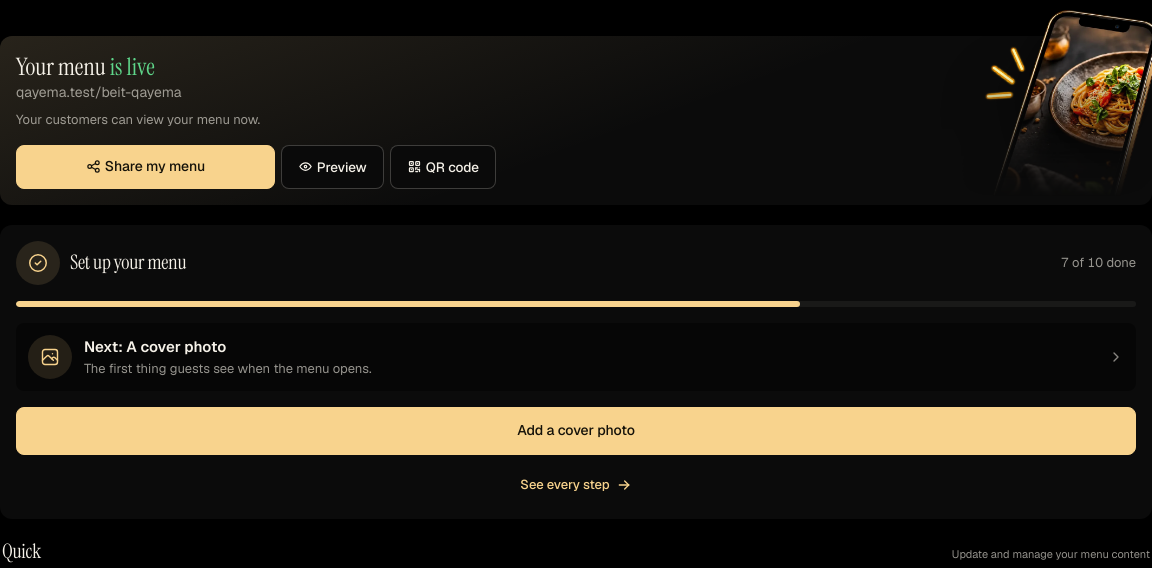
Test case: OverviewPage › opens another step on a tap, and folds an open one away on a second tap
The width and height of the screenshot is (1152, 568).
Click the button "See every step" at (576, 485), box [506,467,646,503]
(page scrolled)
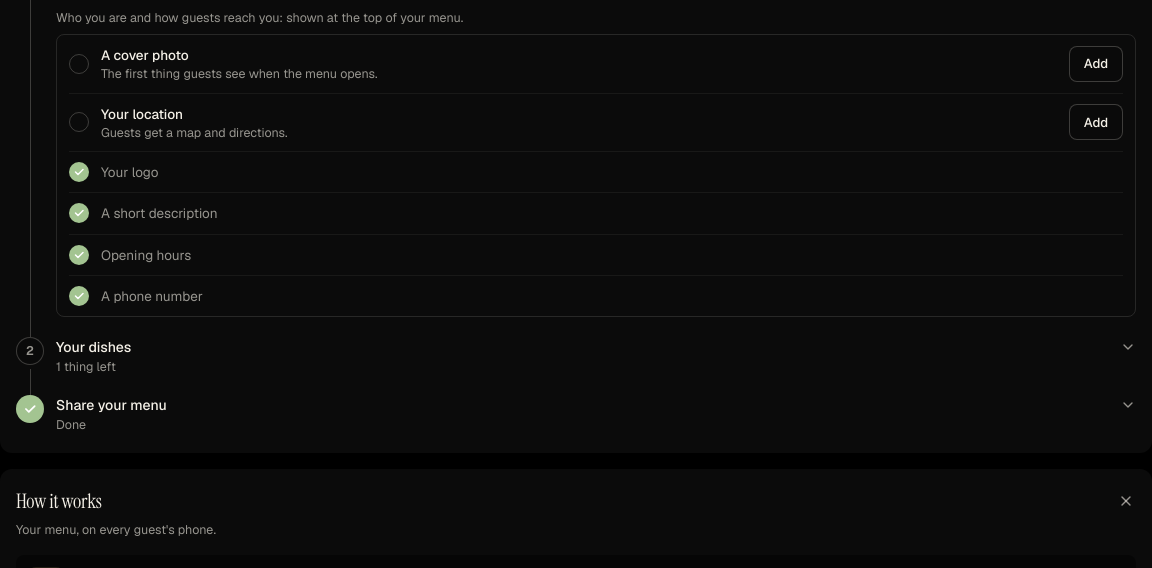
Click the button "Your dishes 1 thing left" at (94, 347), box [56,337,1136,375]
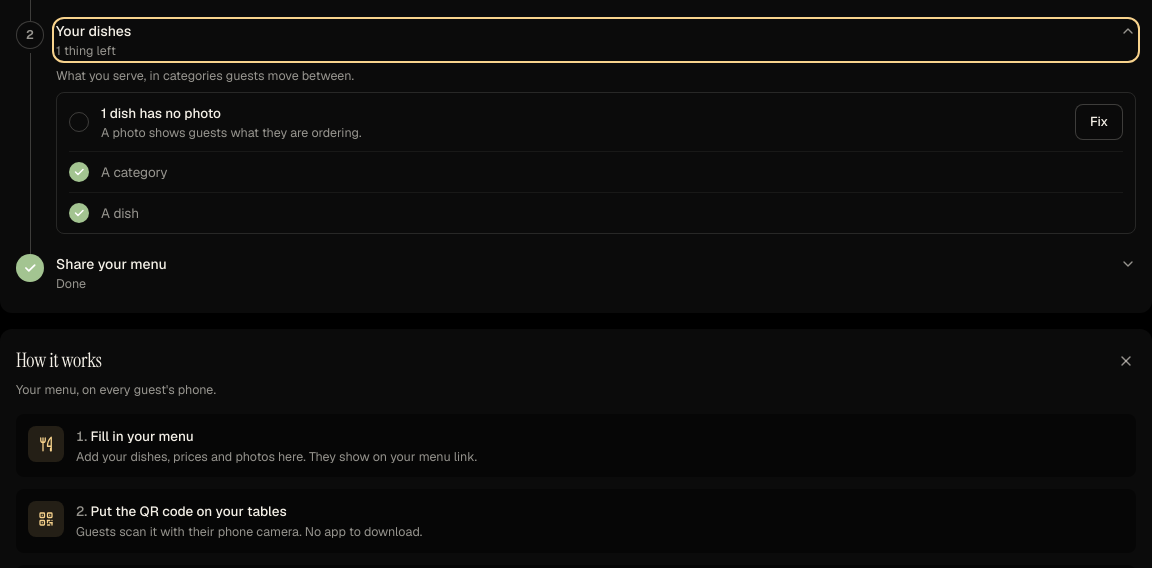
Check: the button "Your dishes 1 thing left" is expanded
Click the button "Your dishes 1 thing left" at (94, 31), box [56,21,1136,59]
(page scrolled)
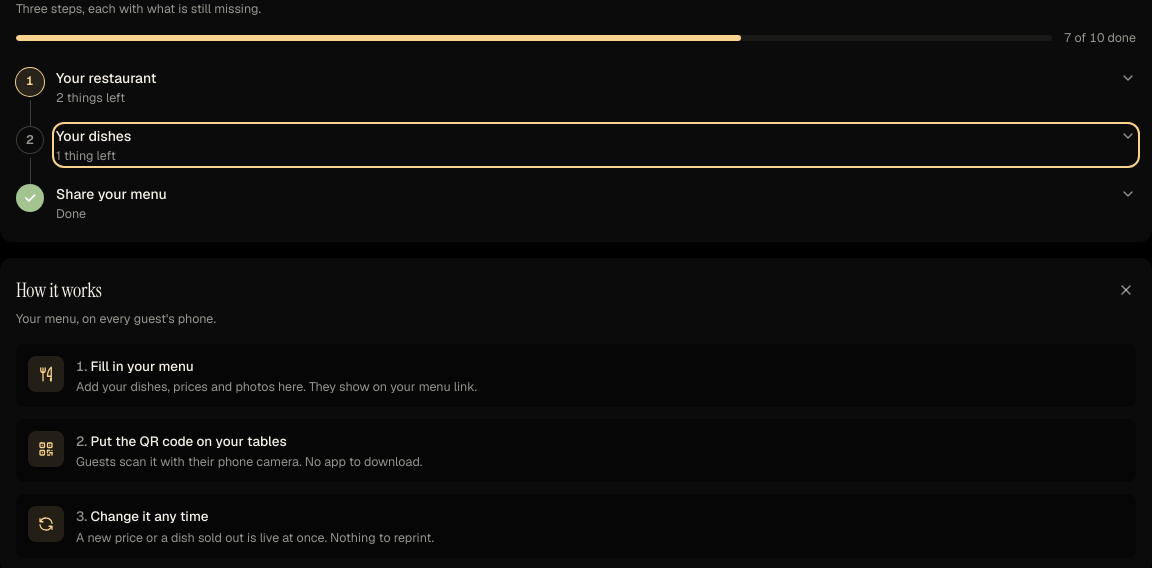
Check: the button "Your dishes 1 thing left" is collapsed, box [56,126,1136,164]
